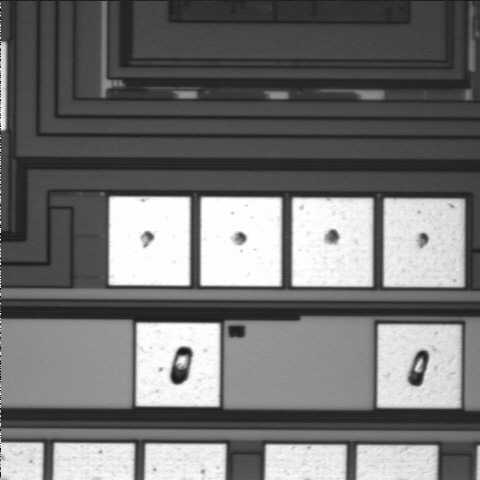pad: (200, 197, 282, 286), (109, 197, 190, 286), (292, 198, 373, 287), (136, 323, 220, 407), (384, 199, 464, 287), (377, 325, 461, 408)
